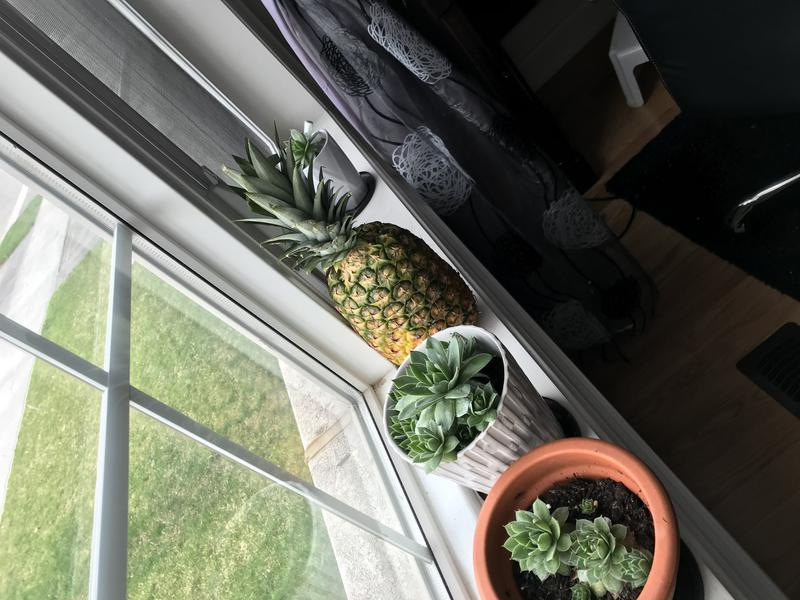pineapple: (204, 118, 488, 378)
